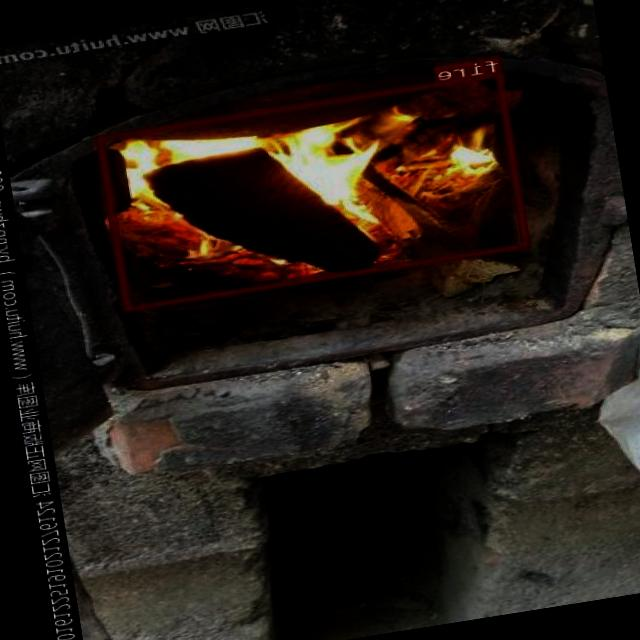fire: (98, 70, 531, 310)
